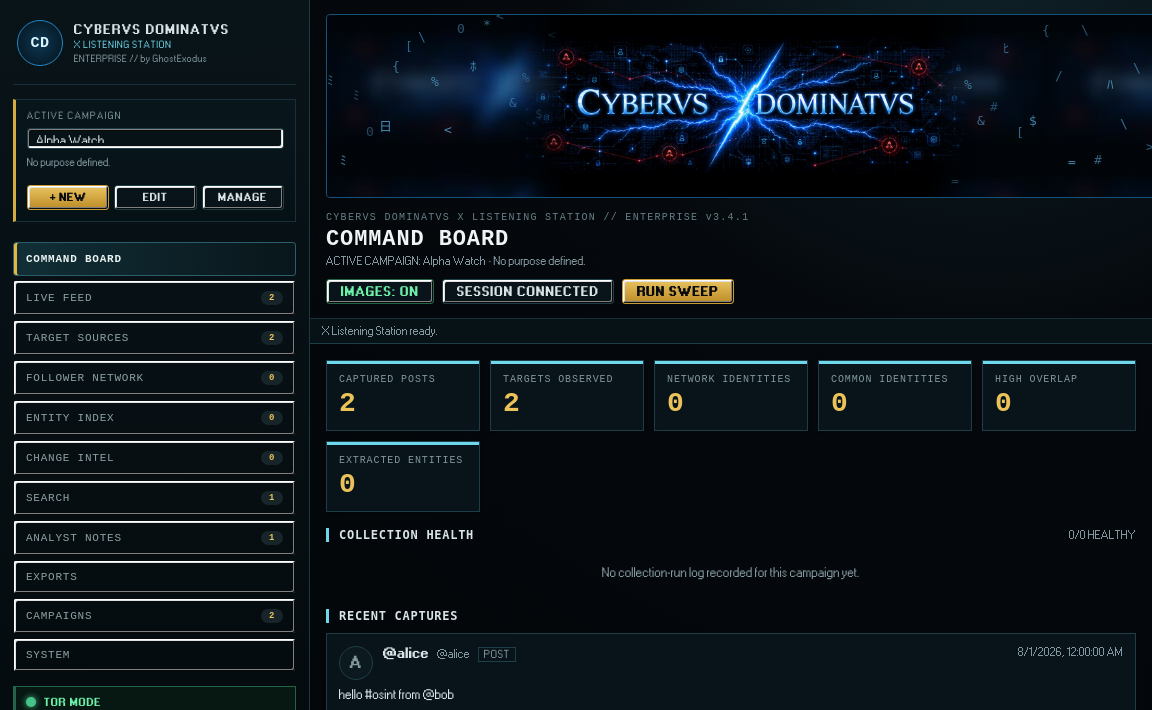
Test: X Listening Station tabs (Task 15) › changes tab shows an honest empty state with no captured networks
What coordinates should you click on to do the following:
click the button with class "xls-tab" showing "CHANGE INTEL 0"
I would click on:
 (70, 458)
Its box is [13,440,296,476].
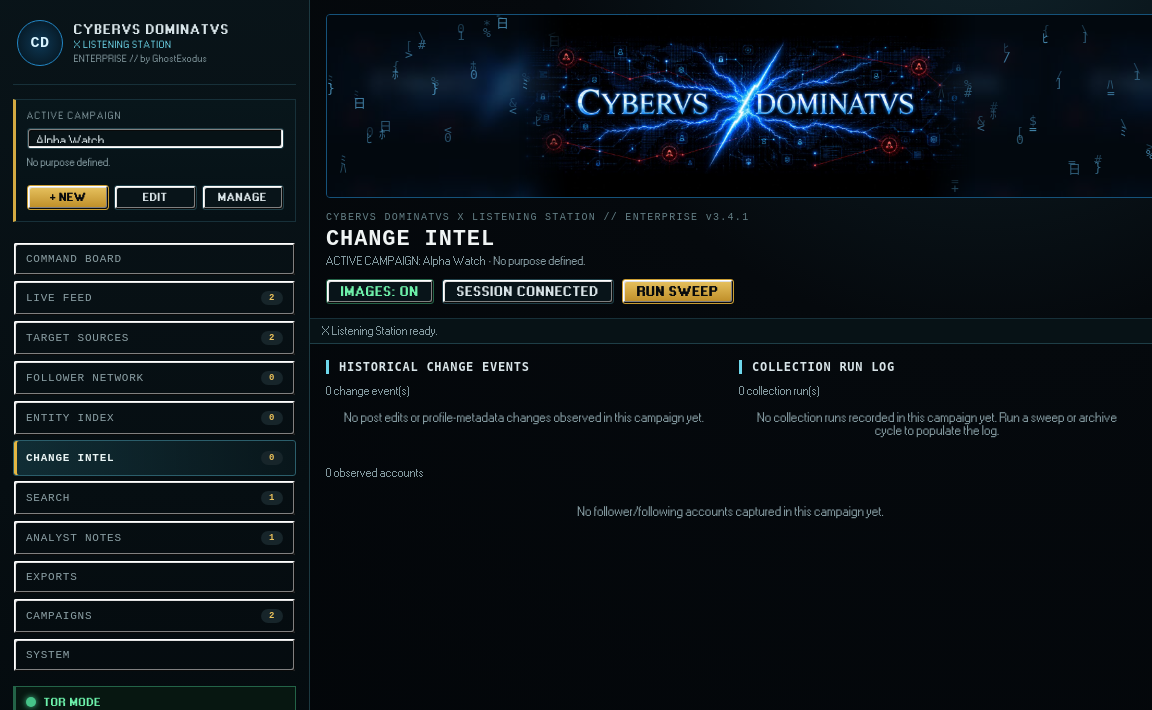
Check: the text "No follower/following accounts captured" is shown, box [578,505,884,518]
